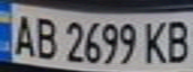2: (60, 17, 84, 64)
6: (81, 18, 103, 65)
9: (118, 19, 142, 65), (100, 19, 121, 65)
A: (9, 11, 39, 57)
B: (160, 16, 193, 64), (30, 12, 60, 61)
K: (139, 17, 172, 65)
